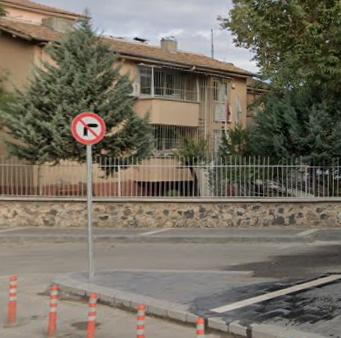rightturnsareforbidden: (73, 114, 105, 144)
